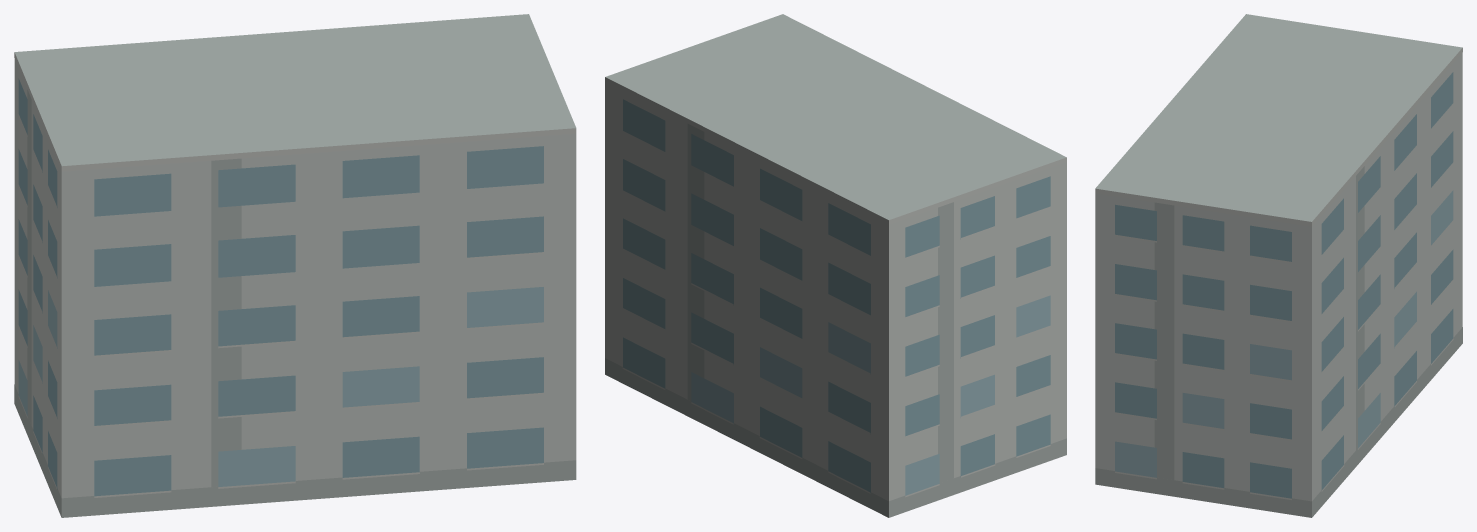
File: residential-57ac5fb0-65fc-4d2f-9417-649af34aced2.glb
3 views of the same model, side by side, from view 1: azimuth 30°, elevation 25°; view 2: azimuth 150°, elevation 25°; view 3: azimuth 270°, elevation 25° (orthographic). The views are drawn at different scales.
Parts seen in each view (by area): view 1: residential-57ac5fb0-65fc-4d2f-9417-649af34aced2.tmp; view 2: residential-57ac5fb0-65fc-4d2f-9417-649af34aced2.tmp; view 3: residential-57ac5fb0-65fc-4d2f-9417-649af34aced2.tmp.
Part boxes in pixels (left/top/right/bottom): residential-57ac5fb0-65fc-4d2f-9417-649af34aced2.tmp: left=14, top=14, right=576, bottom=517; residential-57ac5fb0-65fc-4d2f-9417-649af34aced2.tmp: left=605, top=14, right=1066, bottom=517; residential-57ac5fb0-65fc-4d2f-9417-649af34aced2.tmp: left=1095, top=14, right=1462, bottom=517.
Size of the model in its own units: 22.99 by 15.25 by 17.18.
